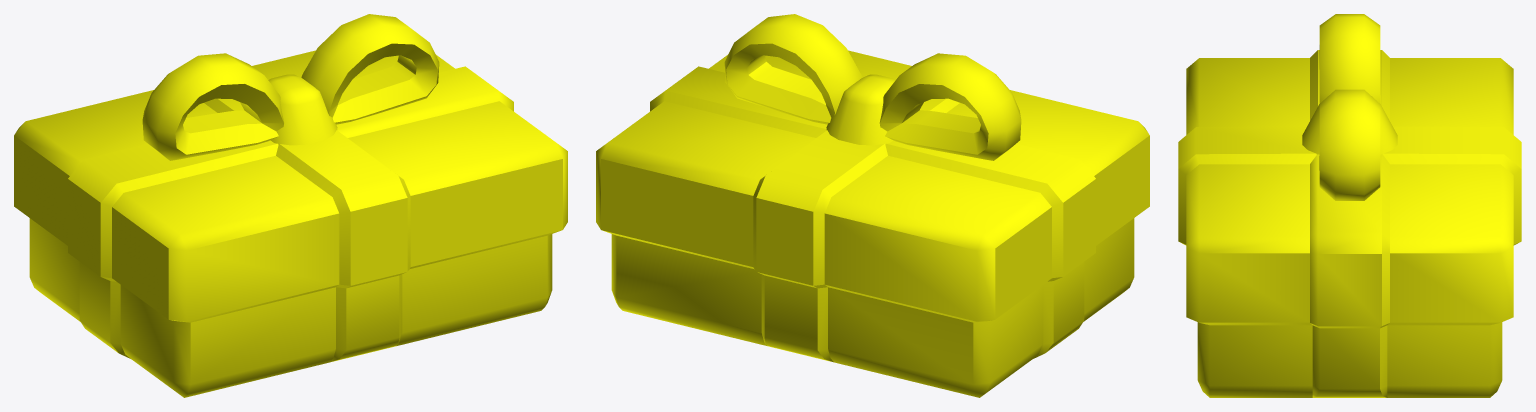
The model's file is kaykit-present-c-yellow.glb.
3 views of the same model, side by side, from view 1: azimuth 30°, elevation 25°; view 2: azimuth 150°, elevation 25°; view 3: azimuth 270°, elevation 25° (orthographic). The views are drawn at different scales.
Parts seen in each view (by area): view 1: present_C_yellow; view 2: present_C_yellow; view 3: present_C_yellow.
Boxes of the visible parts, <box> form: present_C_yellow: <box>14,14,567,397</box>; present_C_yellow: <box>596,14,1149,397</box>; present_C_yellow: <box>1178,14,1521,397</box>.
Size of the model in its own units: 0.7638 by 0.4617 by 0.5637.
